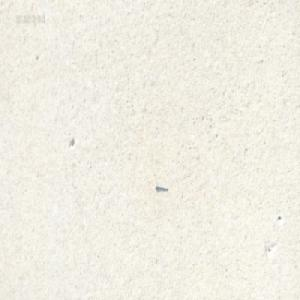Nail: (154, 181, 168, 190)
